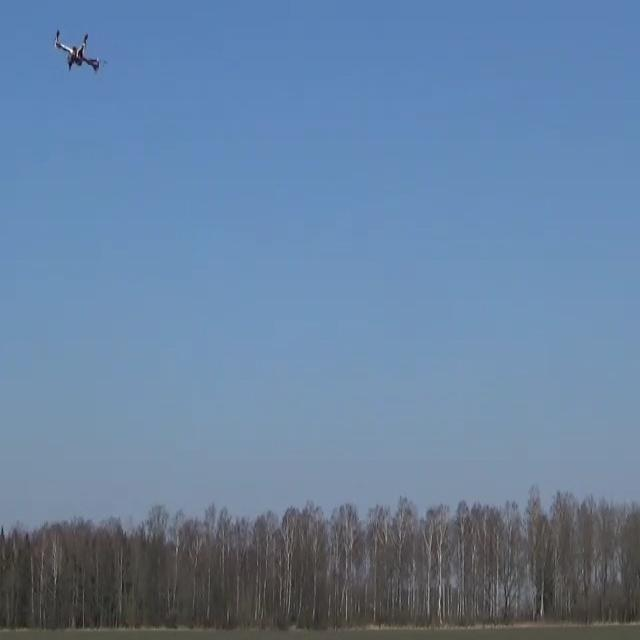drone: (53, 28, 101, 72)
